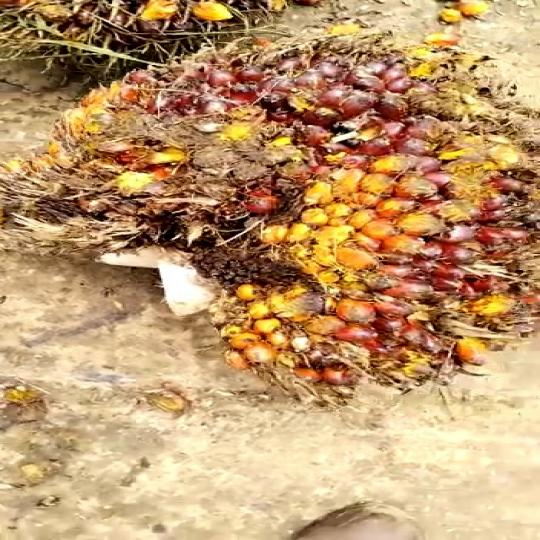masak: (0, 26, 540, 393)
